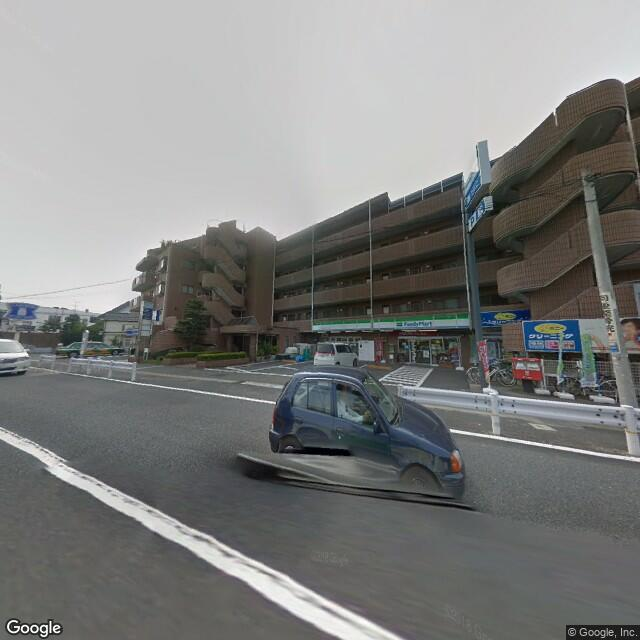family_mart: (310, 309, 473, 333)
